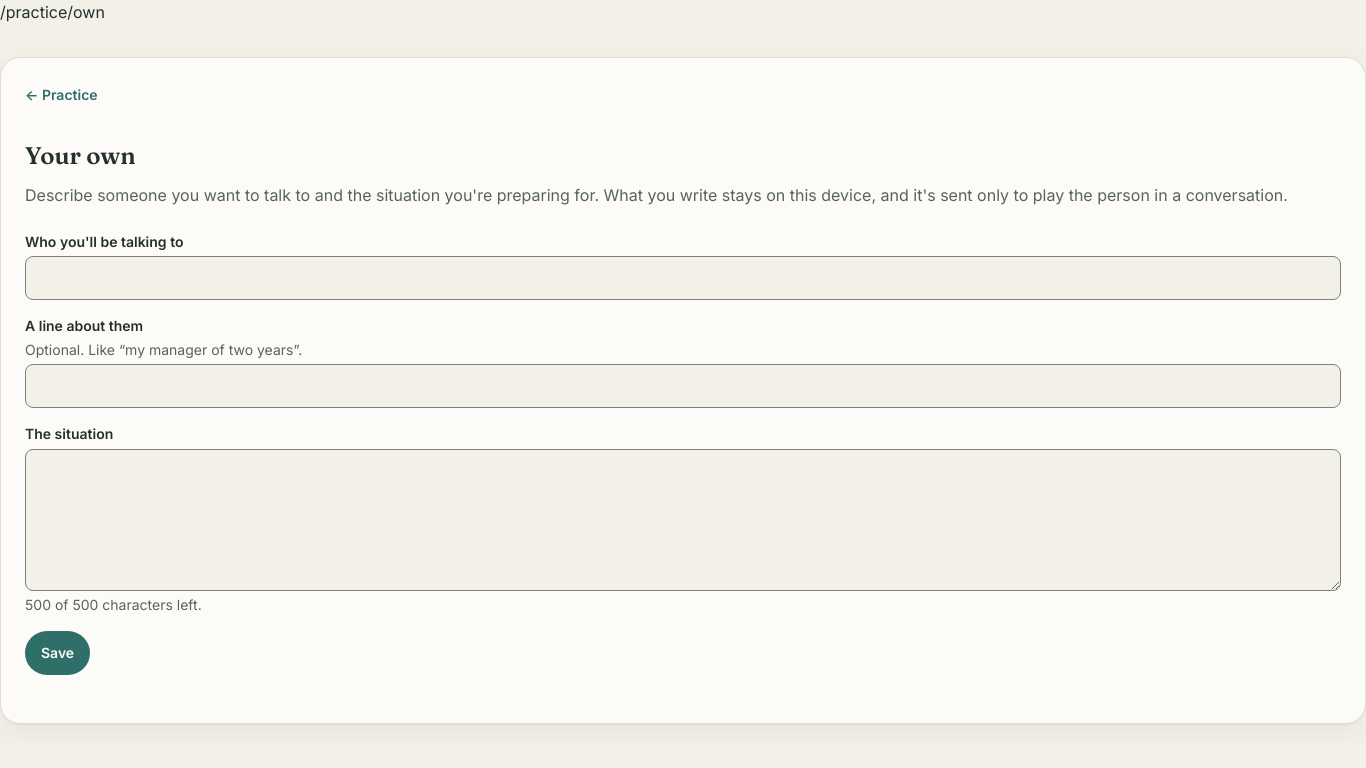
it: OwnScenarioBriefScreen (issue #67) › with nothing saved yet › asks for a name and a situation before saving, and saves nothing until it has them
Expected: the field labelled "Who you'll be talking to" is shown, [25, 256, 1341, 300]
Click the button "Save": (58, 653) [25, 631, 90, 675]
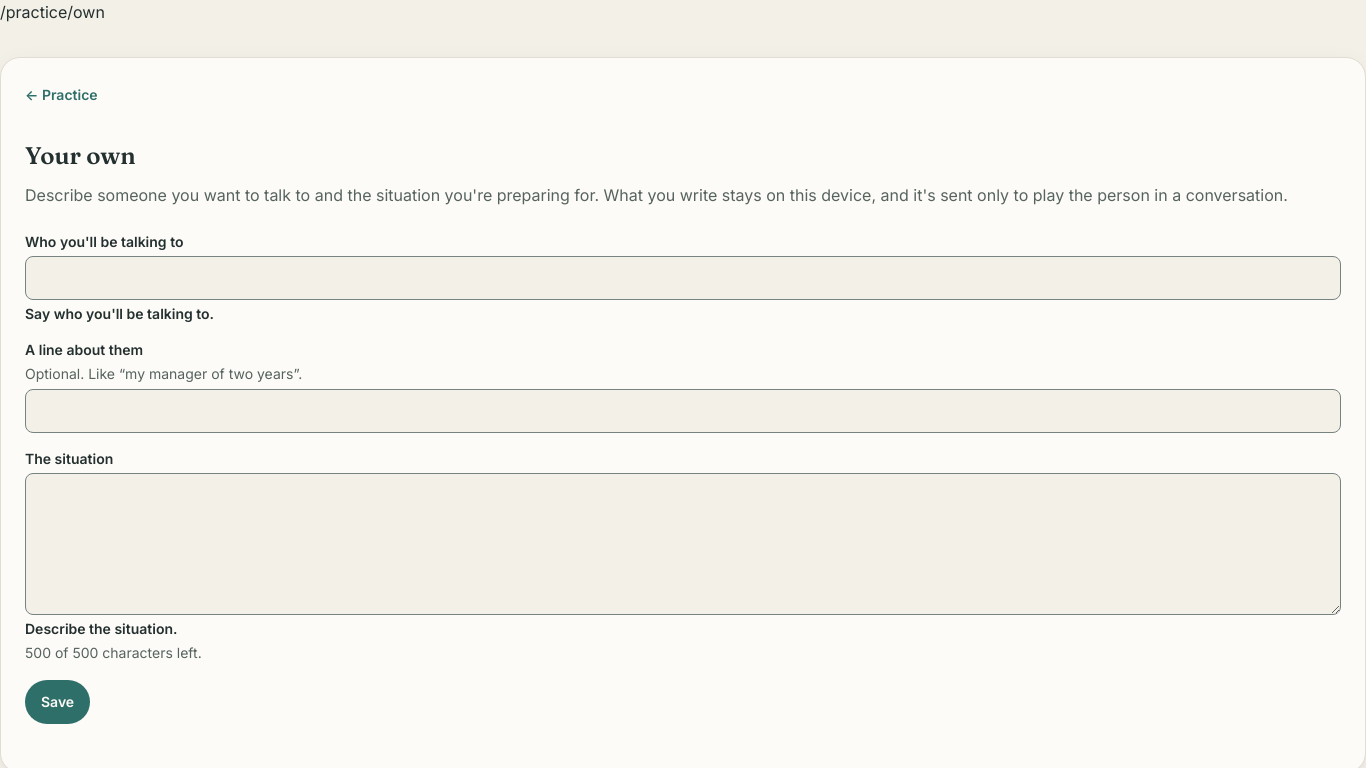
Expected: the text "Say who you'll be talking to." is shown, [25, 305, 214, 322]
Expected: the text "Describe the situation." is shown, [25, 620, 178, 637]
